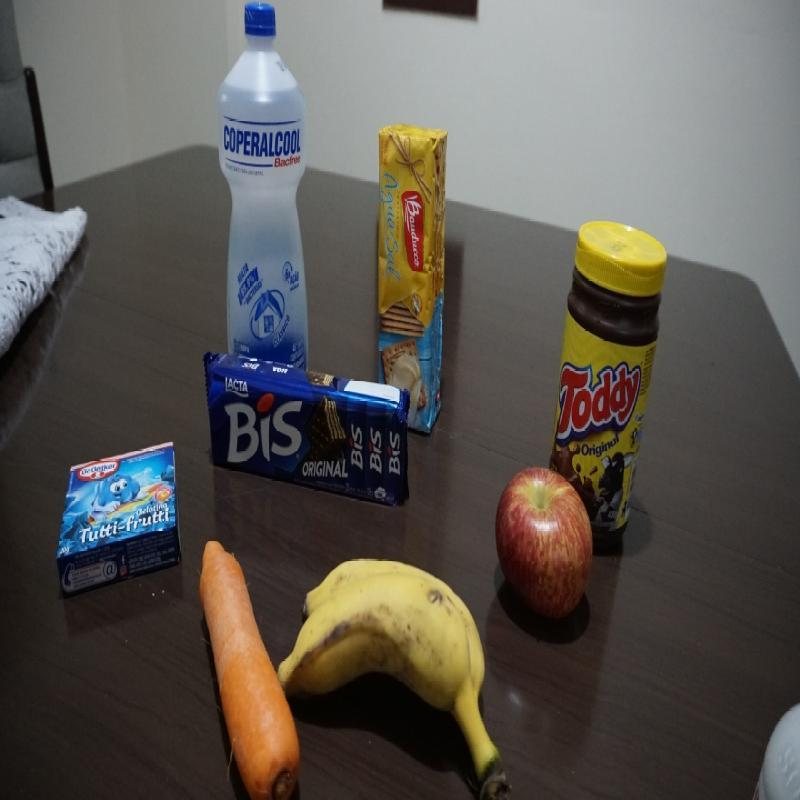Alcohol Bottle: (220, 4, 315, 358)
Apple: (504, 472, 596, 626)
Banana: (286, 558, 504, 798)
Carrot: (195, 535, 283, 797)
Chocolate Powder: (552, 215, 666, 473)
Cracker: (375, 123, 446, 384)
Gelatine: (56, 441, 178, 591)
